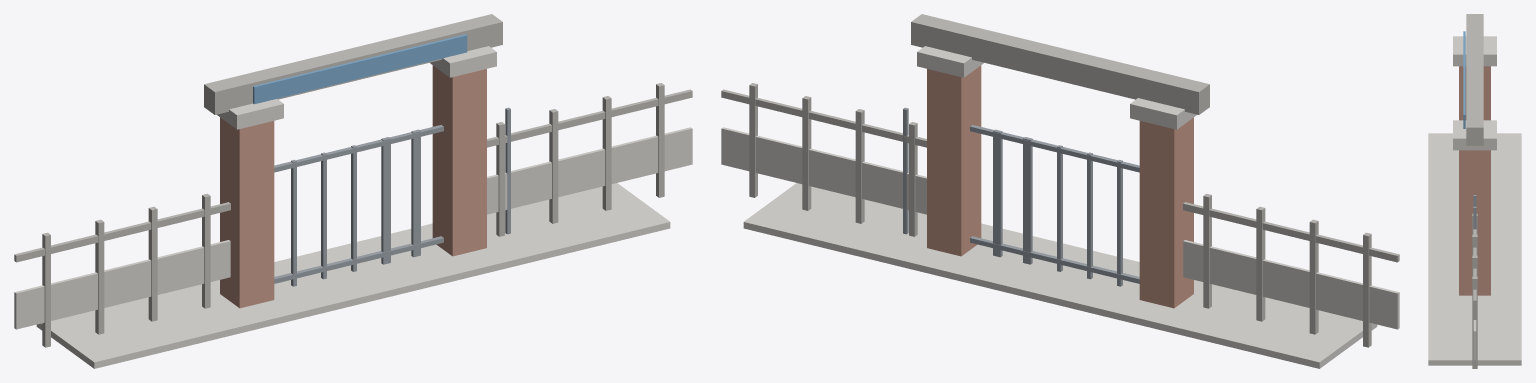
File: webtoon_school_gate_module.glb
3 renders of one model, left to right at view 1: azimuth 30°, elevation 25°; view 2: azimuth 150°, elevation 25°; view 3: azimuth 270°, elevation 25°, orthographic. The views are drawn at different scales.
Visible parts, largest first — view 1: gate apron, brick pillar (×2), fence panel (×2), fence post (×8), gate beam, gate bar (×6), school name board, fence rail (×2), pillar cap (×2), gate top rail, gate bottom rail; view 2: gate apron, brick pillar (×2), fence panel (×2), gate beam, fence post (×8), gate bar (×6), fence rail (×2), pillar cap (×2), gate top rail, gate bottom rail; view 3: gate apron, brick pillar (×2), gate beam, pillar cap (×2), fence post (×3), school name board, fence rail, fence panel, gate bar.
Part boxes in pixels (box(x1,y1,x2,y2)): gate apron: box(36, 183, 670, 368); brick pillar (×2): box(220, 65, 486, 308); fence panel (×2): box(14, 127, 692, 329); fence post (×8): box(42, 83, 664, 347); gate beam: box(204, 14, 502, 114); gate bar (×6): box(291, 107, 510, 286); school name board: box(253, 34, 467, 104); fence rail (×2): box(14, 89, 692, 262); pillar cap (×2): box(217, 46, 496, 129); gate top rail: box(274, 125, 443, 172); gate bottom rail: box(274, 236, 443, 283); gate apron: box(743, 183, 1377, 368); brick pillar (×2): box(927, 65, 1193, 308); fence panel (×2): box(721, 127, 1399, 329); gate beam: box(911, 14, 1209, 114); fence post (×8): box(749, 83, 1371, 347); gate bar (×6): box(903, 107, 1122, 286); fence rail (×2): box(721, 89, 1399, 262); pillar cap (×2): box(917, 46, 1196, 129); gate top rail: box(970, 125, 1139, 172); gate bottom rail: box(970, 236, 1139, 283); gate apron: box(1428, 133, 1521, 365); brick pillar (×2): box(1459, 66, 1490, 295); gate beam: box(1466, 14, 1483, 145); pillar cap (×2): box(1453, 36, 1496, 150); fence post (×3): box(1472, 234, 1477, 368); school name board: box(1463, 31, 1465, 128); fence rail: box(1473, 229, 1476, 305); fence panel: box(1473, 320, 1476, 360); gate bar: box(1473, 206, 1476, 229).
Bounding box in the file's own units: 10.8 × 3.42 × 1.6.
